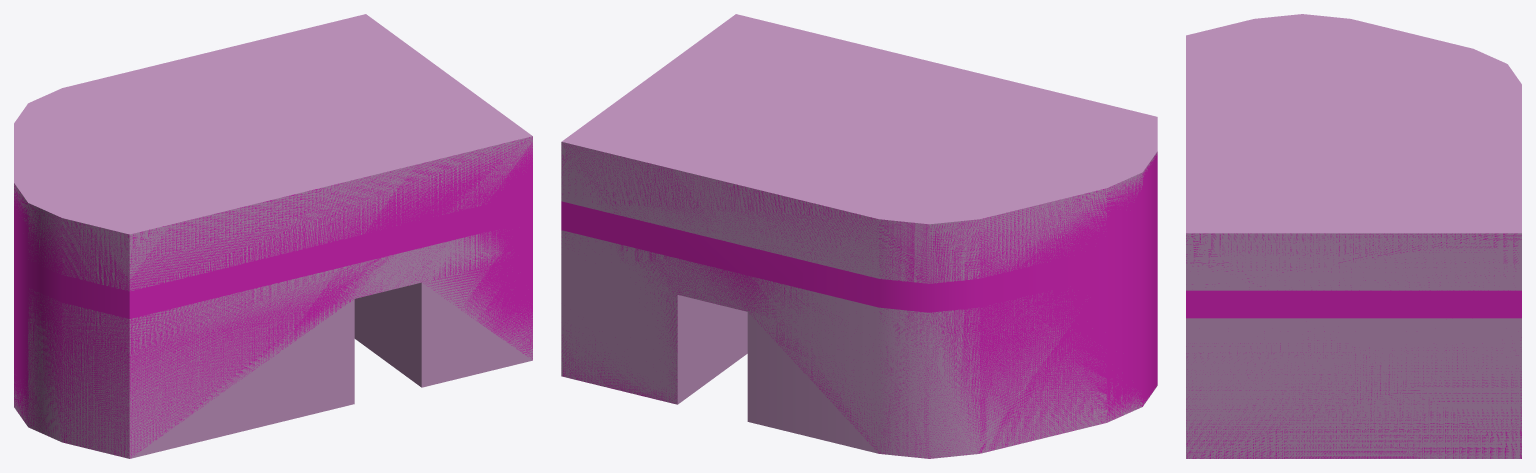
The model's file is building2.fbx.
3 renders of one model, left to right at view 1: azimuth 30°, elevation 25°; view 2: azimuth 150°, elevation 25°; view 3: azimuth 270°, elevation 25°, orthographic. The views are drawn at different scales.
Visible parts, largest first — view 1: building2_MESH, building2_COL; view 2: building2_MESH, building2_COL; view 3: building2_MESH, building2_COL.
Boxes of the visible parts, x1,y1,x2,y2 form: building2_MESH: (14, 14, 532, 458); building2_COL: (14, 137, 532, 458); building2_MESH: (561, 14, 1157, 458); building2_COL: (561, 143, 1157, 458); building2_MESH: (1186, 14, 1521, 458); building2_COL: (1186, 233, 1521, 458).
Size of the model in its own units: 1153 by 746 by 553.
